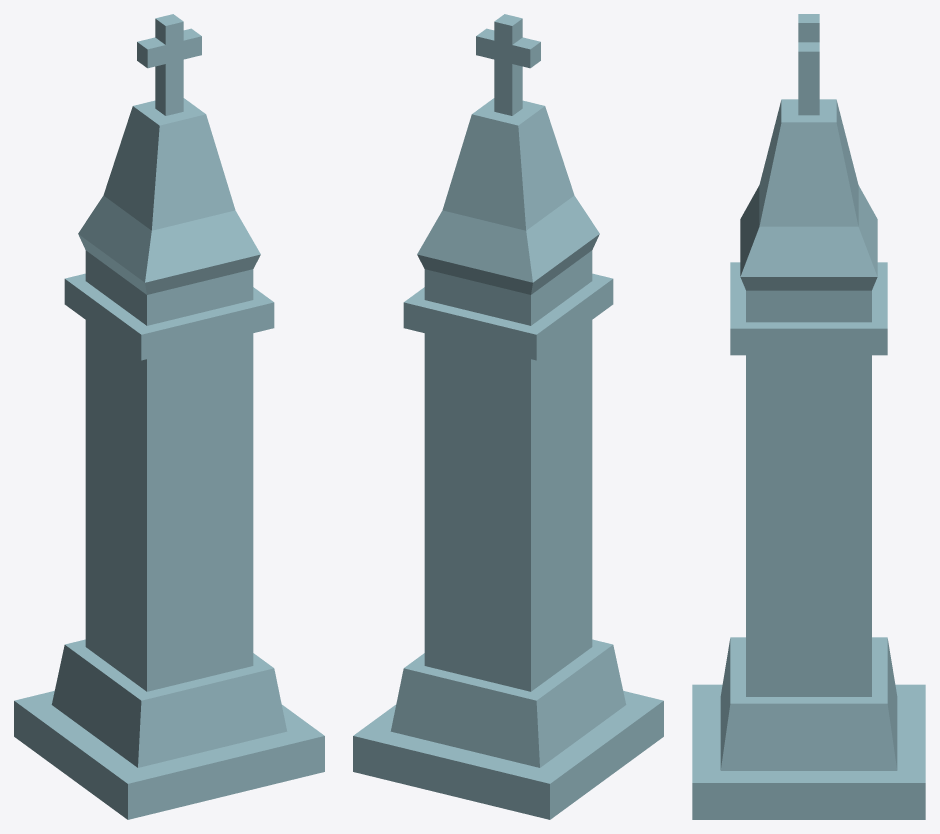
Rendered from crossColumn.obj.
3 views of the same model, side by side, from view 1: azimuth 30°, elevation 25°; view 2: azimuth 150°, elevation 25°; view 3: azimuth 270°, elevation 25° (orthographic). The views are drawn at different scales.
Parts seen in each view (by area): view 1: crossColumn; view 2: crossColumn; view 3: crossColumn.
Boxes of the visible parts, <box> form: crossColumn: <box>14,14,324,819</box>; crossColumn: <box>353,14,663,819</box>; crossColumn: <box>692,14,925,819</box>.
Size of the model in its own units: 0.4 by 1.42 by 0.4.
